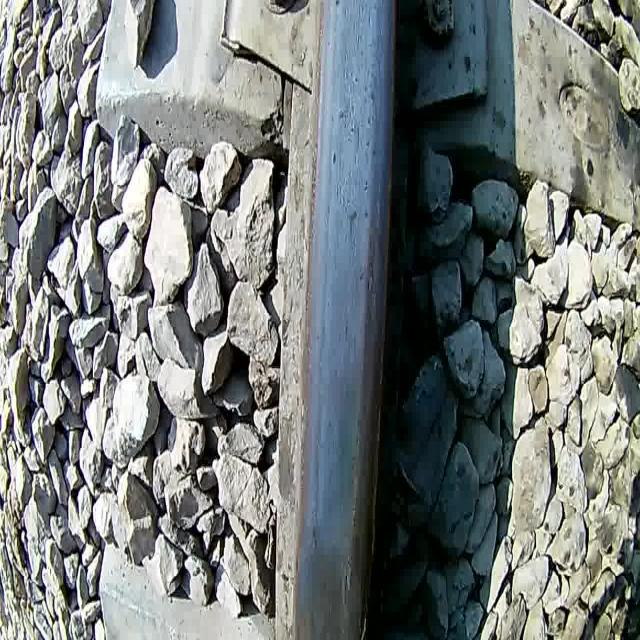Squats: (292, 521, 368, 640)
